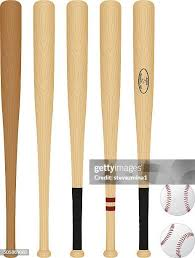baseball bat: (130, 1, 157, 258), (96, 1, 123, 258), (30, 1, 57, 258), (64, 1, 89, 258), (1, 1, 24, 258)
